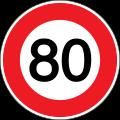Speed Limit -80-: (24, 36, 97, 85)
